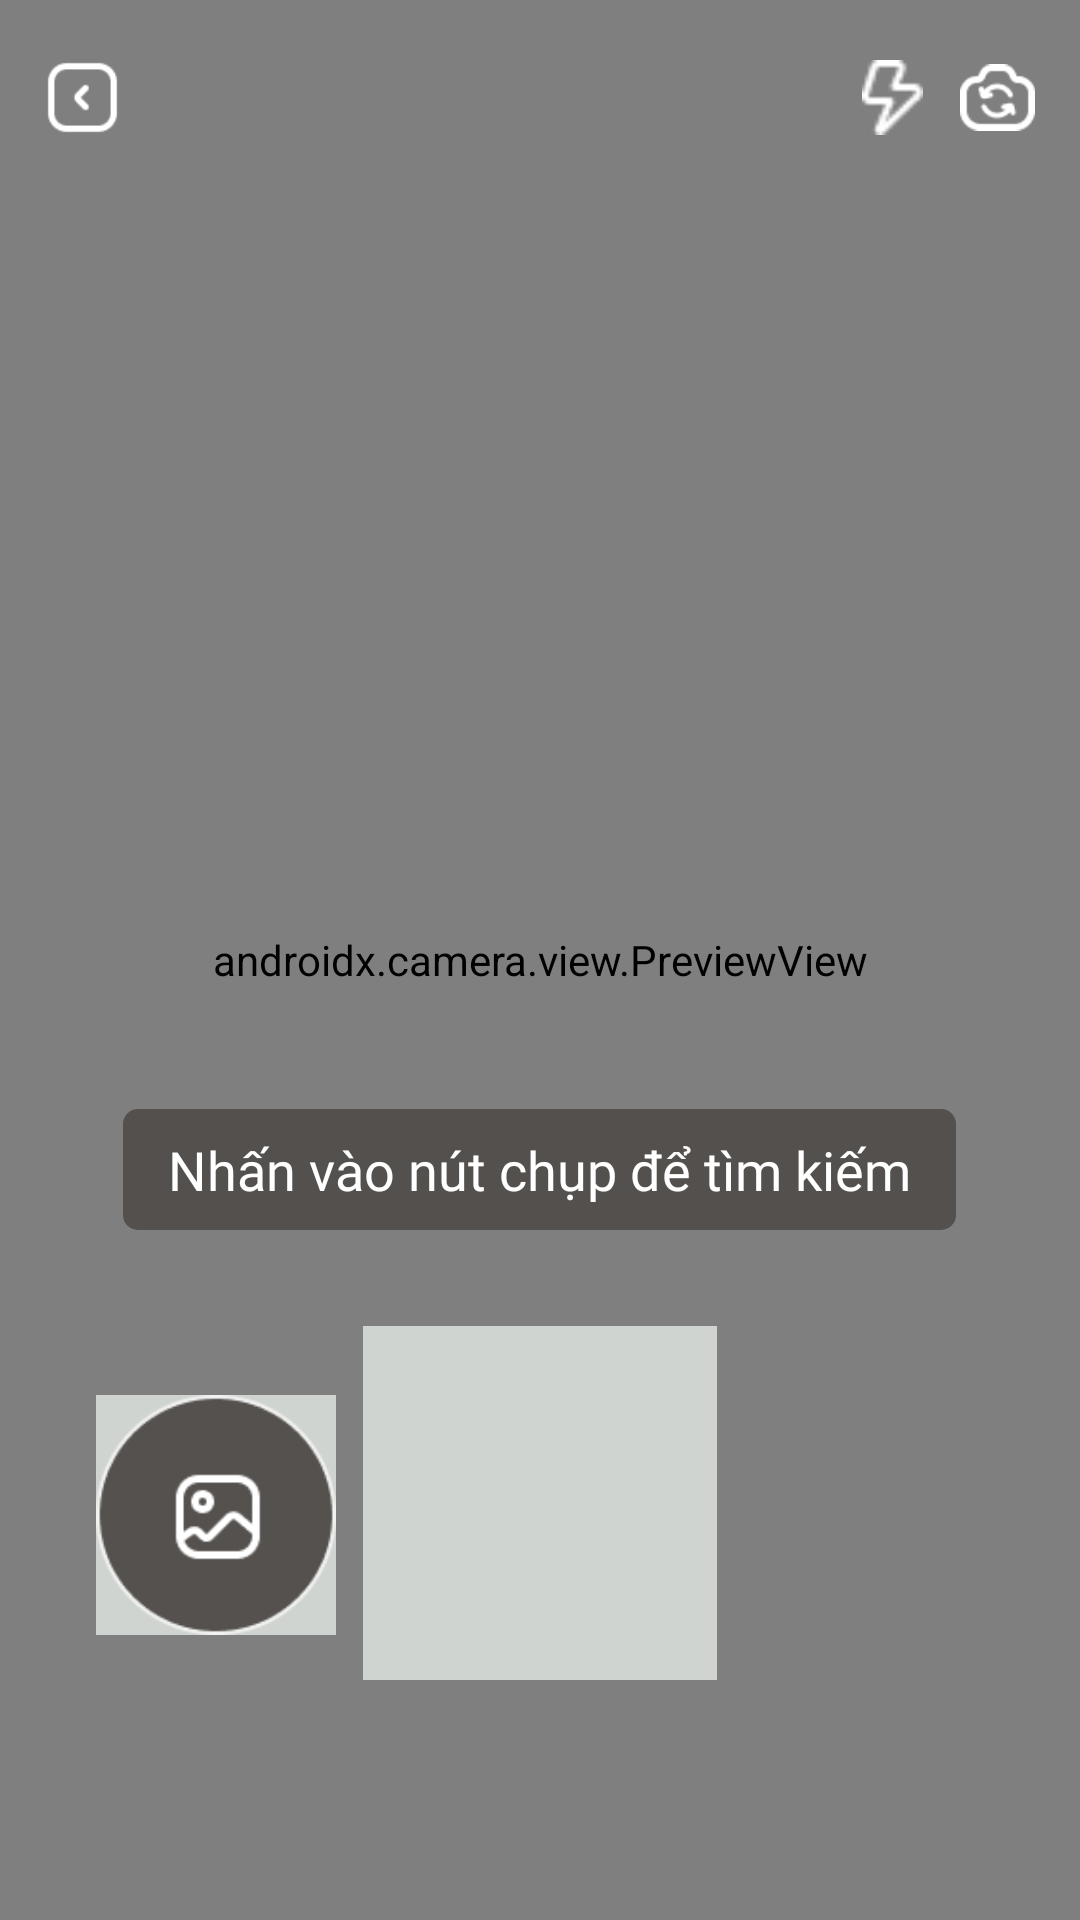

Screen size 1080w x 1920h. Icon name, then its center in pixels as (x,y):
back: (82,97)
change cam: (997,97)
flash: (892,97)
gallery: (216,1515)
